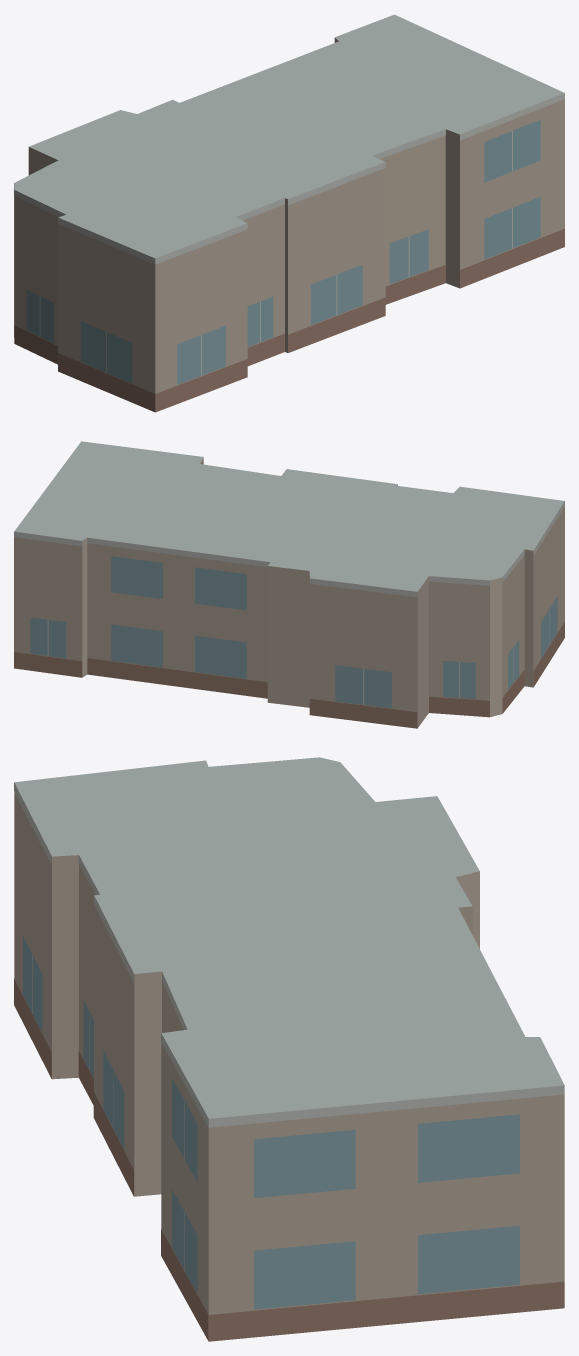
The model's file is survey-upis-32656733.glb.
3 renders of one model, top to bottom at view 1: azimuth 30°, elevation 25°; view 2: azimuth 150°, elevation 25°; view 3: azimuth 270°, elevation 25°, orthographic. The views are drawn at different scales.
Parts seen in each view (by area): view 1: survey-upis-32656733.tmp; view 2: survey-upis-32656733.tmp; view 3: survey-upis-32656733.tmp.
Part boxes in pixels (<box>): survey-upis-32656733.tmp: <box>14,14,564,412</box>; survey-upis-32656733.tmp: <box>14,441,564,728</box>; survey-upis-32656733.tmp: <box>14,757,564,1341</box>.
Size of the model in its own units: 21.25 by 6.1 by 13.68.
